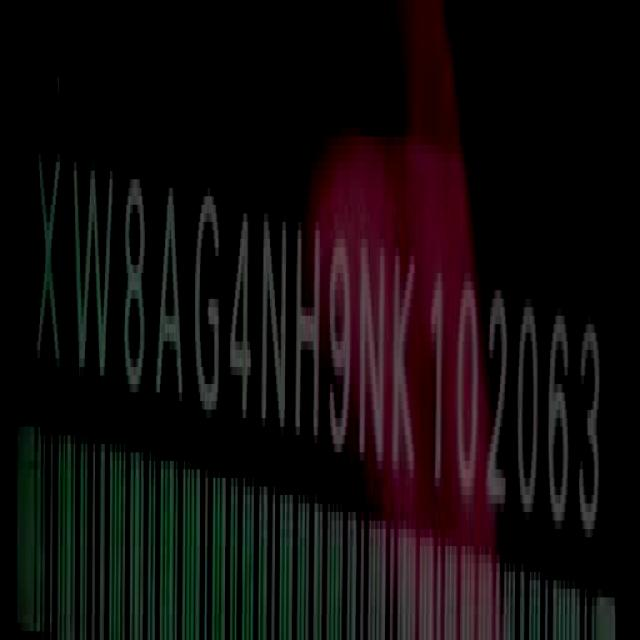0: (456, 274, 481, 507), (518, 300, 541, 528)
1: (428, 258, 443, 505)
2: (487, 284, 509, 518)
3: (579, 320, 602, 546)
4: (229, 200, 252, 438)
6: (549, 305, 574, 535)
8: (124, 173, 147, 409)
9: (328, 221, 351, 466)
A: (157, 179, 185, 419)
G: (195, 181, 222, 428)
H: (297, 216, 323, 455)
K: (394, 235, 418, 485)
N: (359, 228, 387, 477), (262, 201, 290, 446)
W: (70, 147, 116, 403)
X: (36, 143, 65, 390)
